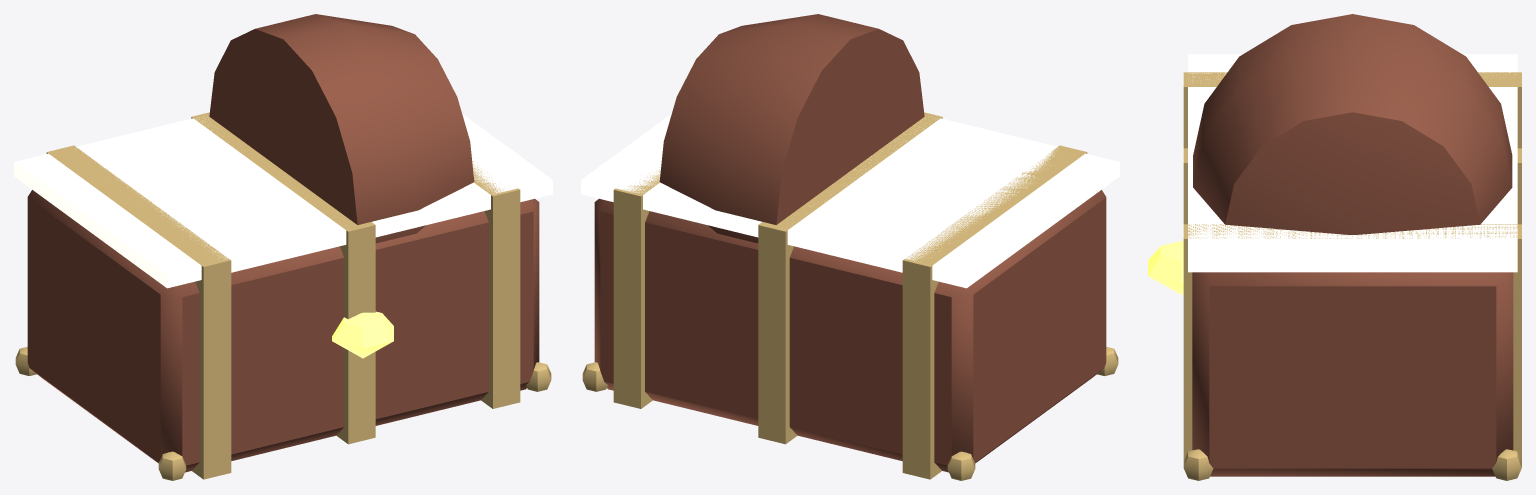
Rendered from relic_cache_gilded.glb.
3 renders of one model, left to right at view 1: azimuth 30°, elevation 25°; view 2: azimuth 150°, elevation 25°; view 3: azimuth 270°, elevation 25°, orthographic. The views are drawn at different scales.
Parts seen in each view (by area): view 1: relic_cache_gilded; view 2: relic_cache_gilded; view 3: relic_cache_gilded.
Part boxes in pixels (x1,y1,x2,y2): relic_cache_gilded: (14, 14, 552, 480); relic_cache_gilded: (581, 14, 1119, 480); relic_cache_gilded: (1148, 14, 1521, 480).
Bounding box in the file's own units: 0.114 × 0.0955 × 0.0873.
